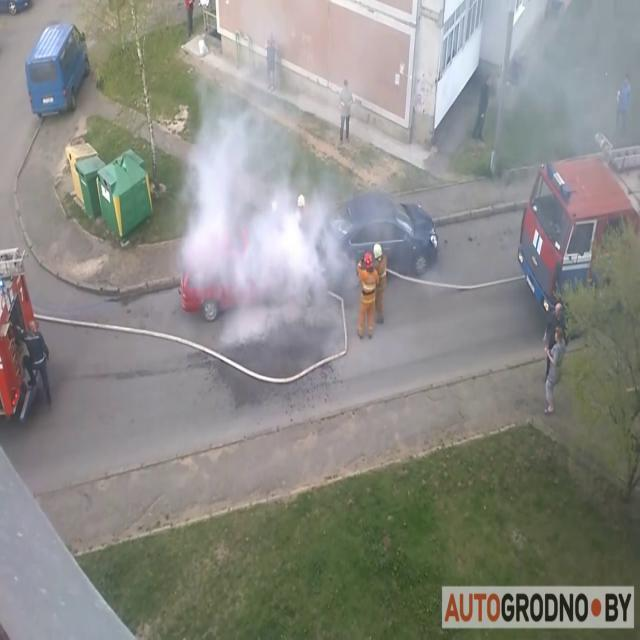Smoke: (171, 4, 360, 324)
